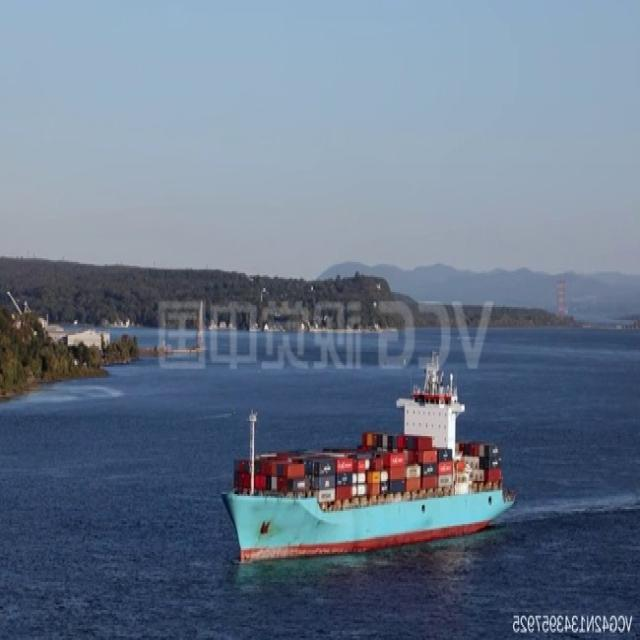cargoship: (227, 344, 512, 566)
